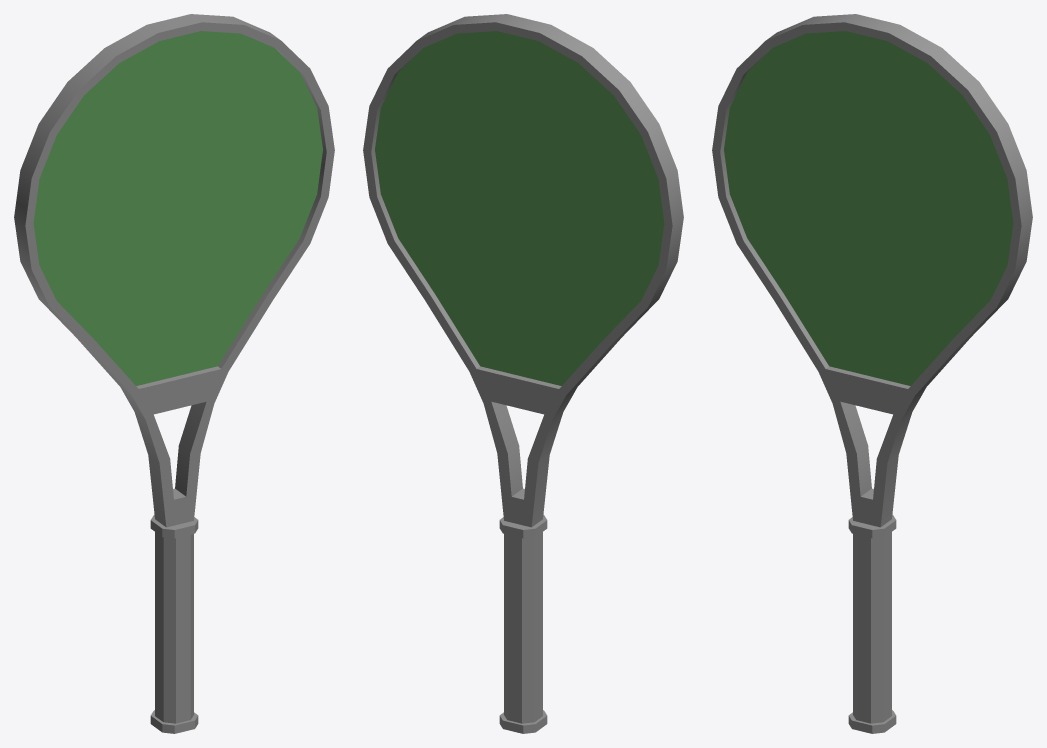
The model's file is TennisRacket.FBX.
The picture shows the model from 3 angles, left to right: view 1: azimuth 30°, elevation 25°; view 2: azimuth 150°, elevation 25°; view 3: azimuth 330°, elevation 25°; orthographic projection.
Parts seen in each view (by area): view 1: TennisRacket; view 2: TennisRacket; view 3: TennisRacket.
Part boxes in pixels (bbox=[...]): TennisRacket: bbox=[14, 14, 334, 733]; TennisRacket: bbox=[363, 14, 683, 733]; TennisRacket: bbox=[712, 14, 1032, 733].
Bounding box in the file's own units: 172 × 372 × 20.
